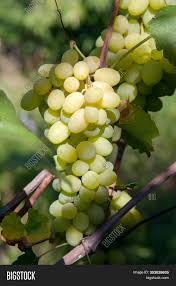grapes: (27, 49, 128, 248), (105, 9, 167, 86)
